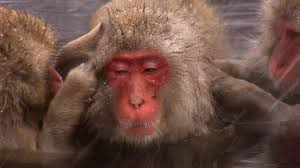monkey: (58, 10, 240, 168)
